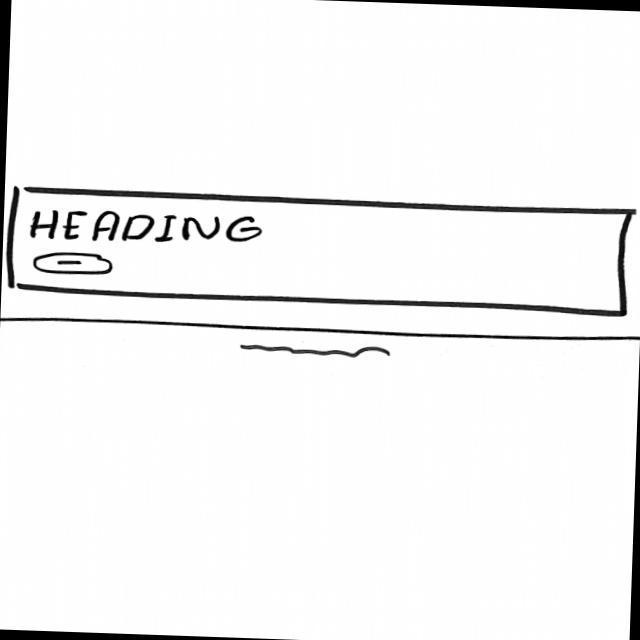container: (2, 182, 640, 321)
icon-button: (31, 250, 116, 278)
label: (24, 206, 265, 250)
text: (238, 339, 394, 366)
